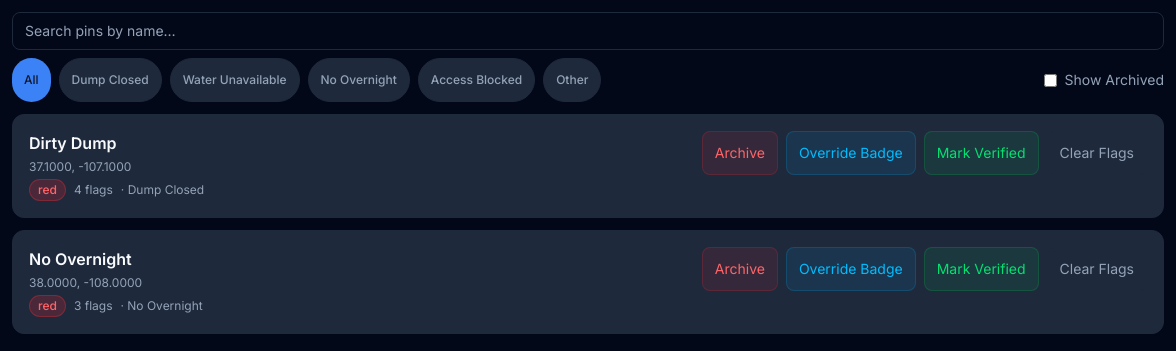
Test: FlaggedPinList › renders reason filter chips; clicking a chip filters by that reason
The image size is (1176, 351).
Expected: the text "Dirty Dump" is shown, left=29, top=133, right=117, bottom=153
Click the button "No Overnight": (359, 80) left=308, top=58, right=410, bottom=102
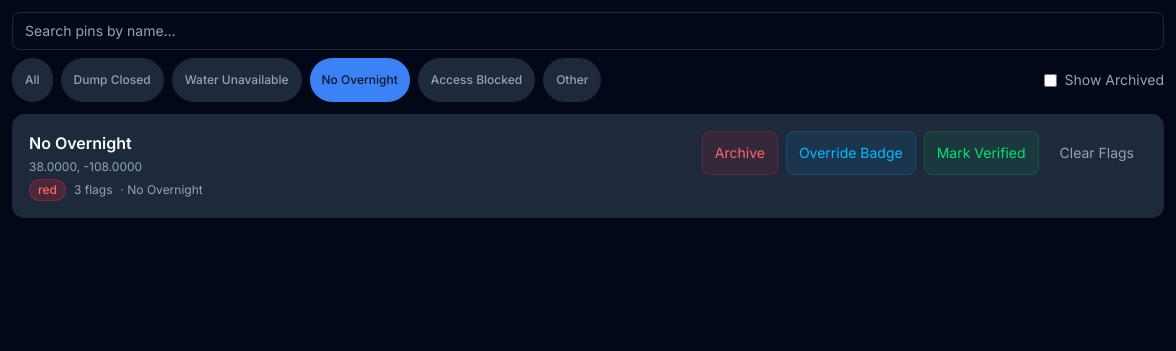
Expected: the button with aria-label "archive pin no overnight" is shown, left=702, top=131, right=778, bottom=175
Expected: the text "Dirty Dump" is gone
